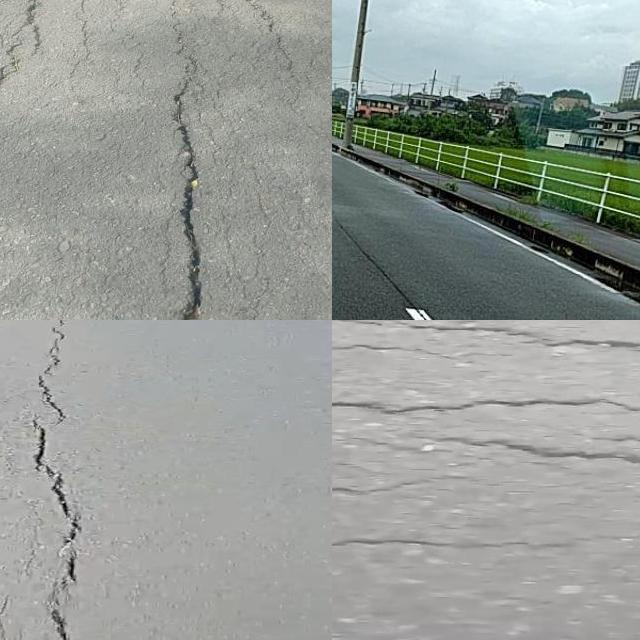Melintang: (332, 380, 640, 418)
Memanjang: (13, 320, 91, 640), (157, 47, 222, 320), (0, 0, 58, 162)
